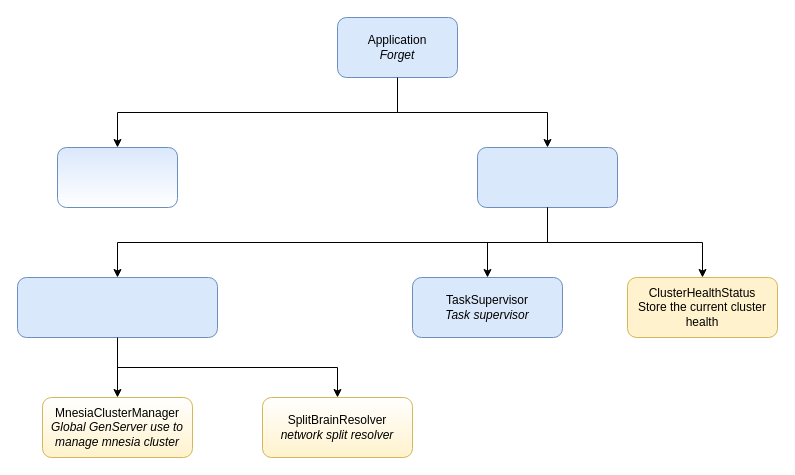
This 795x475 diagram has some shape labels left out. The centre of each missing label's shape, as x and y in pixels:
ClusterSupervisor Libcluster: (x=117, y=177)
ForgetSupervisor Main supervision tree: (x=547, y=177)
GlobalSupervisor "Fake" Supervisor for global process: (x=117, y=307)
